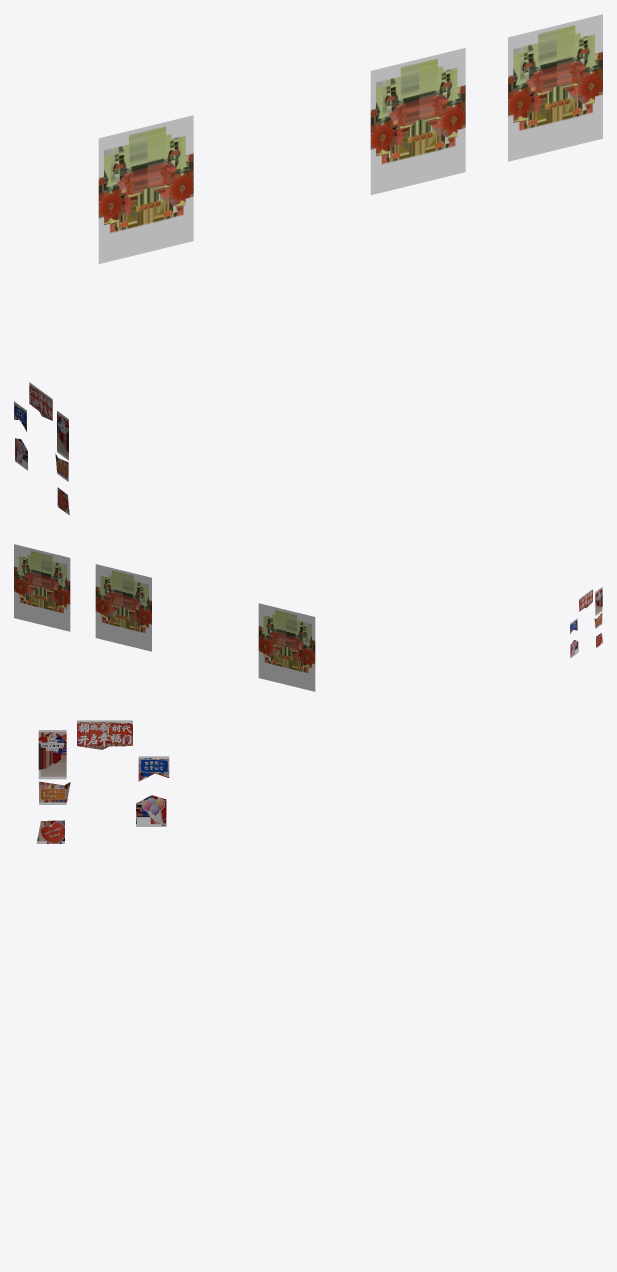
Rendered from toutie.FBX.
The picture shows the model from 3 angles, top to bottom: view 1: azimuth 30°, elevation 25°; view 2: azimuth 150°, elevation 25°; view 3: azimuth 270°, elevation 25°; orthographic projection. The views are drawn at different scales.
Visible parts, largest first — view 1: rong; view 2: rong; view 3: rong.
Part boxes in pixels (bbox=[...]): rong: bbox=[14, 14, 602, 515]; rong: bbox=[14, 544, 602, 691]; rong: bbox=[36, 720, 169, 843].
Bounding box in the file's own units: 0.7272 × 0.1352 × 0.378.
